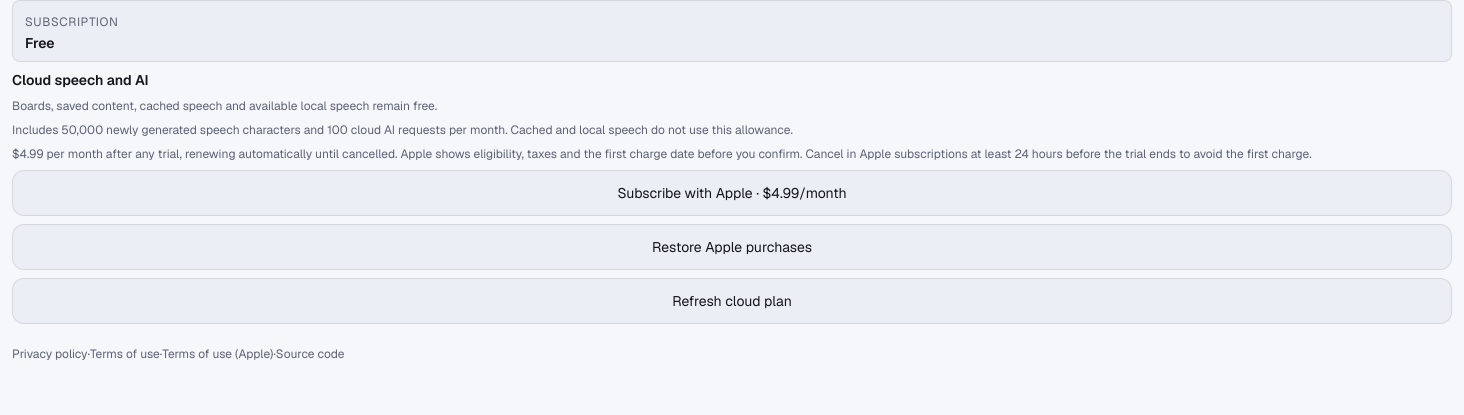
AAC account purchase settings › updates the summary after purchase, entitlement expiry and restore
Click the button "Subscribe with Apple · $4.99/month" at coordinates (732, 193), box [12,170,1452,216]
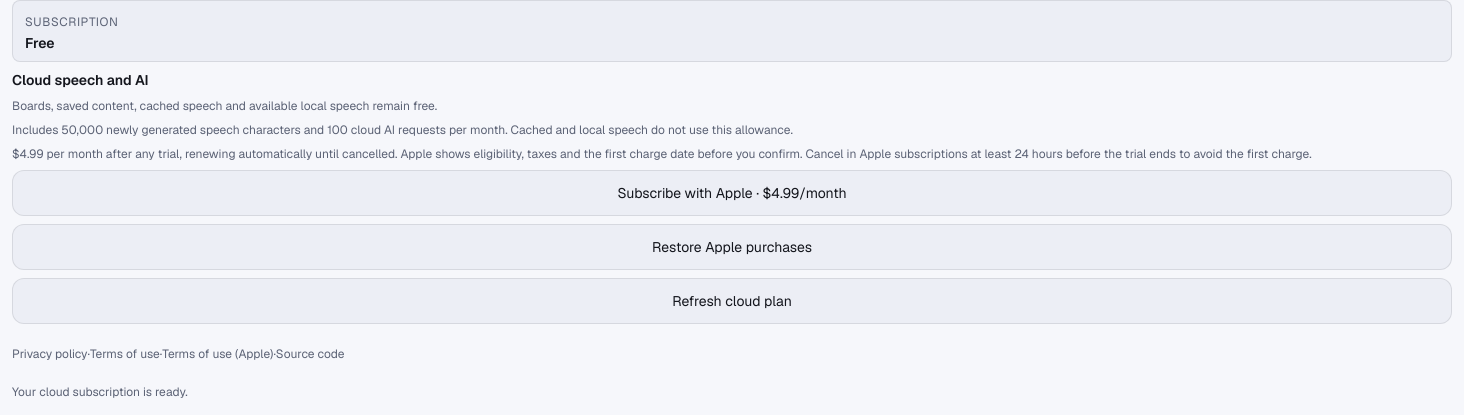
Expected: the text "Free" is shown, [25,34,55,52]
Click the button "Restore Apple purchases" at coordinates (732, 247), box [12,224,1452,270]
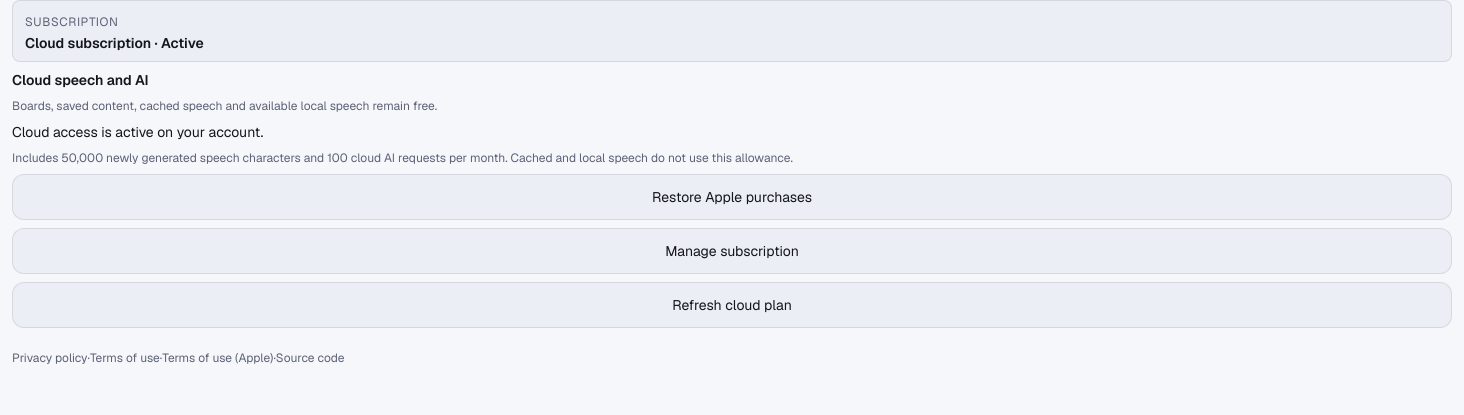
Result: the text "Cloud subscription · Active" is shown at [25,34,204,52]
